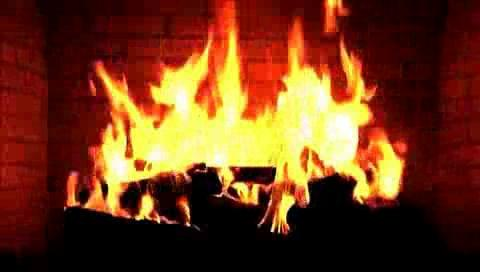fire: (55, 0, 476, 231)
